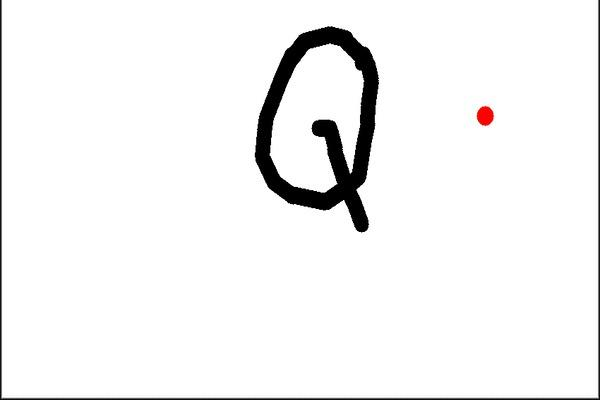Q: (236, 17, 401, 241)
